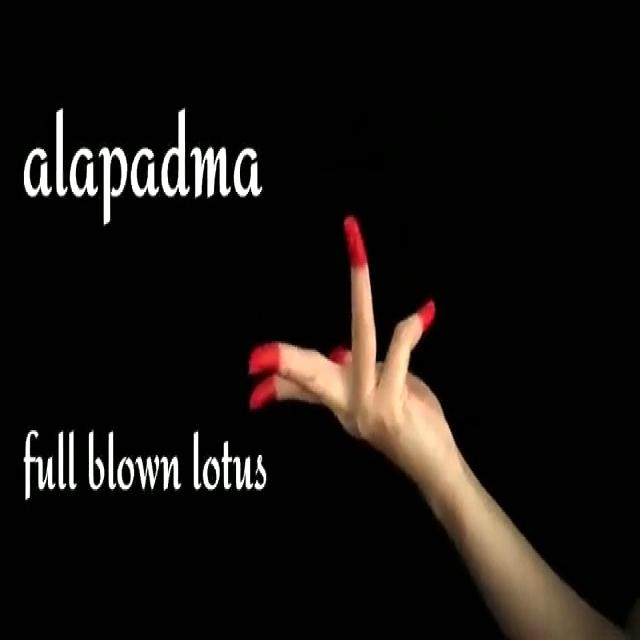Alapadma: (238, 200, 454, 446)
text: (13, 93, 265, 225), (18, 409, 273, 533)
